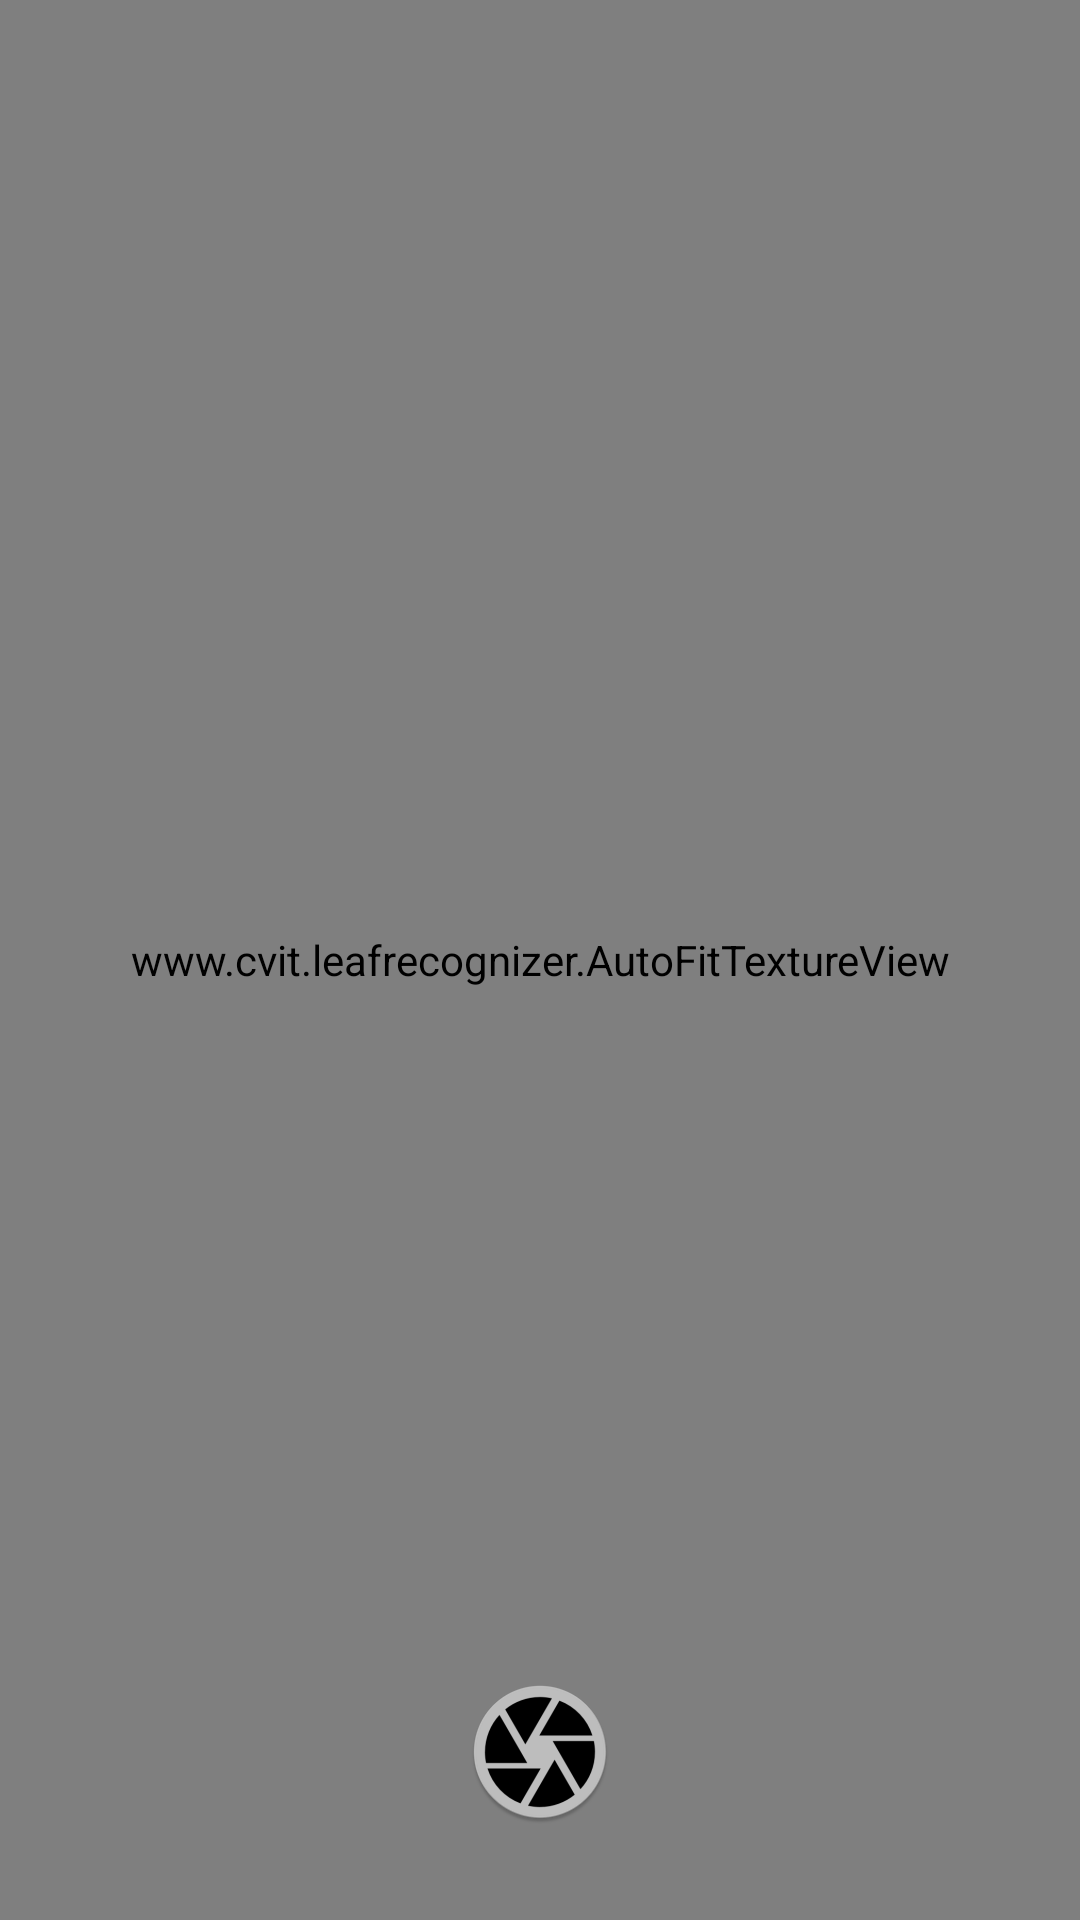

Named icons in this screenshot (1080px x 1920px) and their centers, (x,y):
capture: (540,1752)
